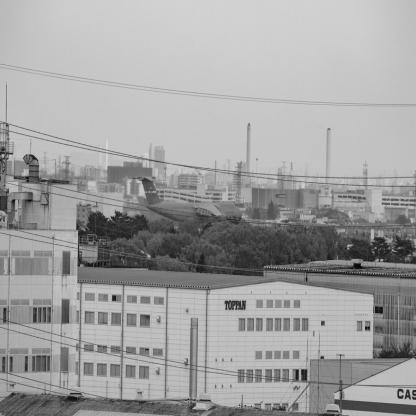C5: (131, 177, 244, 229)
